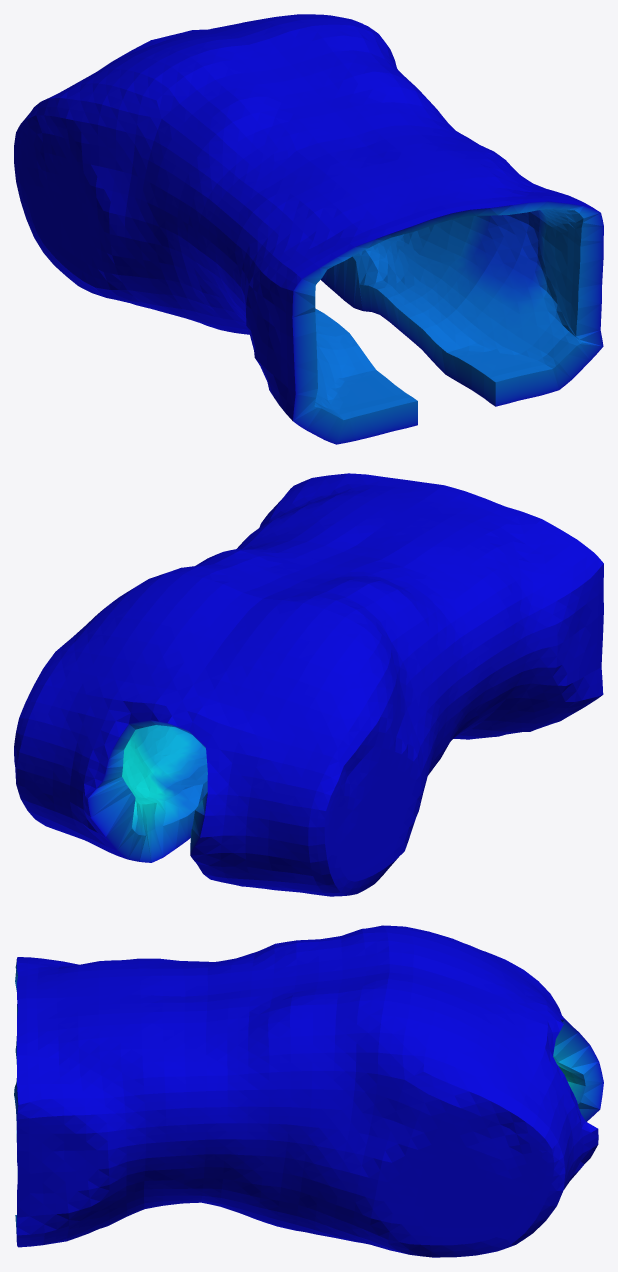
File: skin_all_UVW.FBX
3 views of the same model, one above another, from view 1: azimuth 30°, elevation 25°; view 2: azimuth 150°, elevation 25°; view 3: azimuth 270°, elevation 25° (orthographic). The views are drawn at different scales.
Visible parts, largest first — view 1: skin; view 2: skin; view 3: skin.
Boxes of the visible parts, x1,y1,x2,y2 form: skin: (14,14,603,444); skin: (14,473,603,896); skin: (14,925,603,1257).
Bounding box in the file's own units: 349 × 256 × 589.
